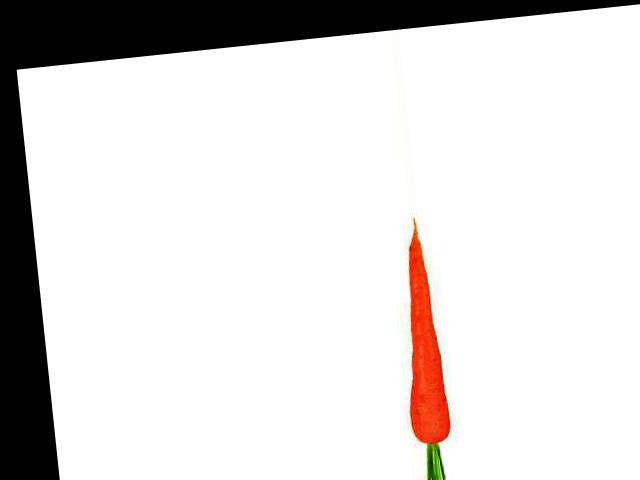carrot: (381, 218, 460, 452)
